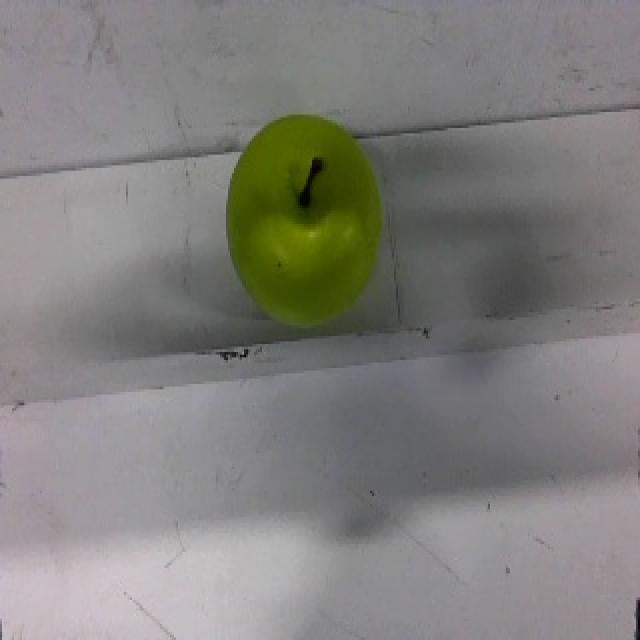apple: (223, 112, 385, 340)
